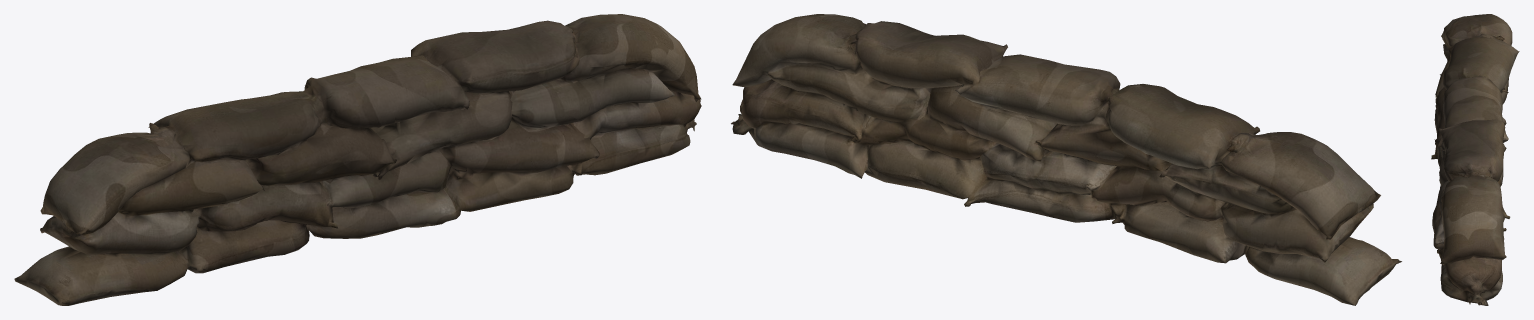
The model's file is sandbags.gltf.
The picture shows the model from 3 angles, left to right: view 1: azimuth 30°, elevation 25°; view 2: azimuth 150°, elevation 25°; view 3: azimuth 270°, elevation 25°; orthographic projection. The views are drawn at different scales.
Visible parts, largest first — view 1: SM_SBFlat; view 2: SM_SBFlat; view 3: SM_SBFlat.
Part boxes in pixels (box(x1,y1,x2,y2)): SM_SBFlat: box(14, 14, 701, 305); SM_SBFlat: box(731, 14, 1401, 305); SM_SBFlat: box(1431, 14, 1519, 305).
Size of the model in its own units: 4.59 by 1.03 by 0.7365.
1 material, 1 textured.
